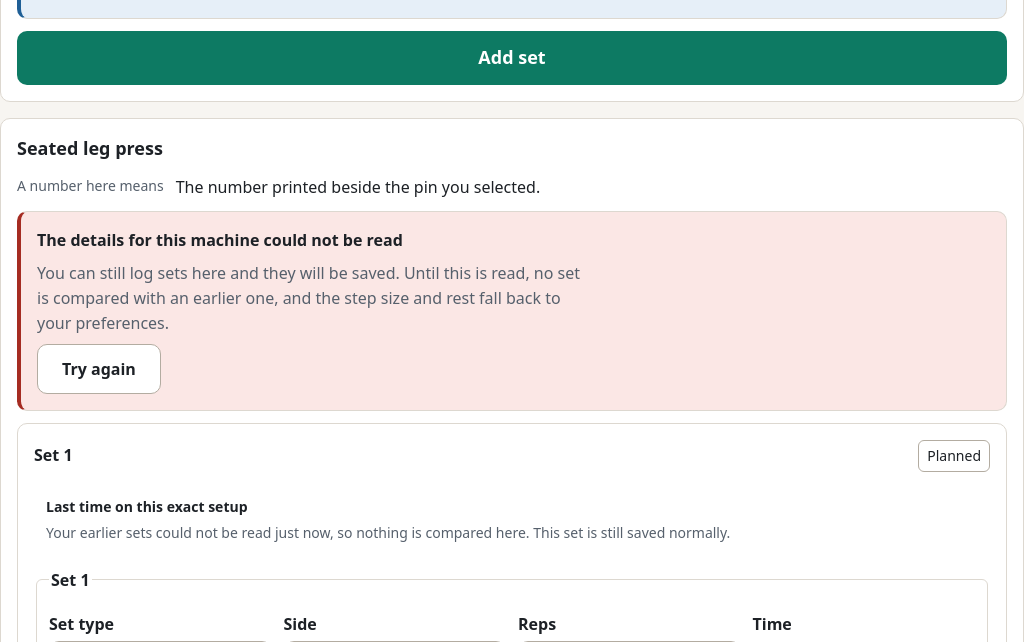
Test: a comparison history that cannot be read › is never reported as an empty history, and never as a first result
The width and height of the screenshot is (1024, 642).
(page scrolled)
Check: the text "The details for this machine could not be read" is shown, box [37,230,403,252]
Check: the text "Your earlier sets could not be read just now, so nothing is compared here. This set is still saved normally." is shown, box [46,523,730,542]
Click the button "Try again" at (99, 369), box [37,344,161,394]
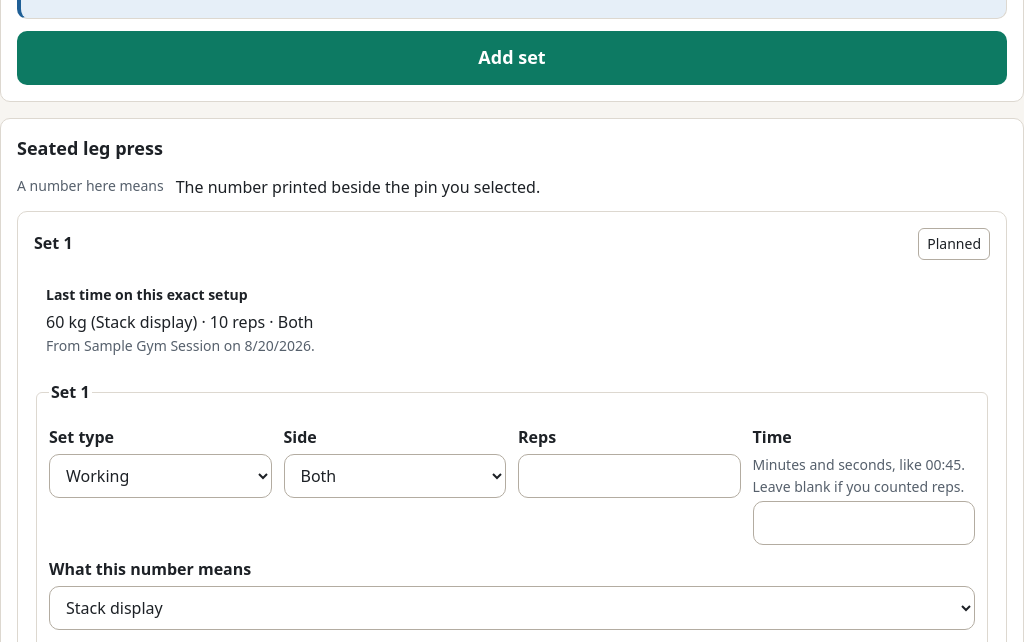
Check: the text "60 kg (Stack display) · 10 reps · Both" is shown, box [46,311,314,333]
Check: the text "Your earlier sets could not be read just now, so nothing is compared here. This set is still saved normally." is gone
